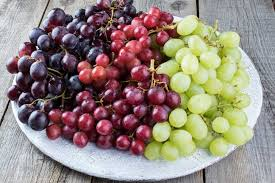Black grapes: (18, 33, 78, 83)
Green grapes: (178, 37, 248, 131)
Red Grapes: (102, 37, 157, 142)
